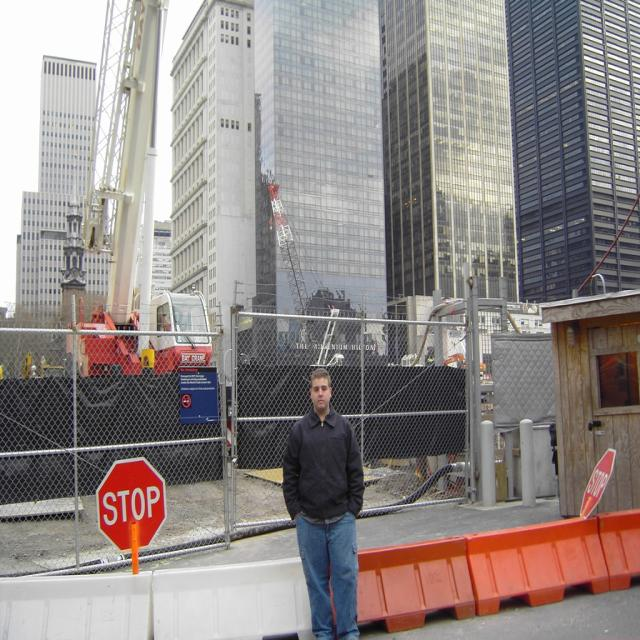Stop-sign: (100, 458, 167, 548)
